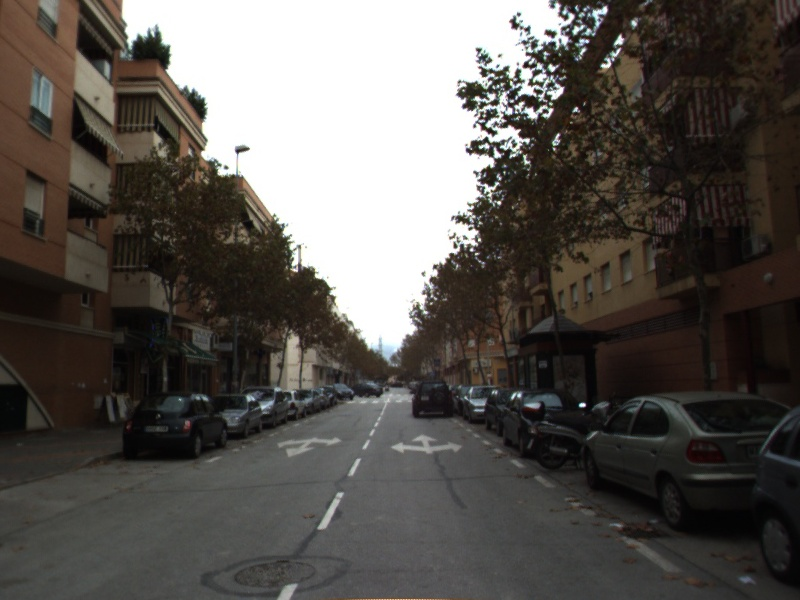STRAIGHT_LEFT_RIGHT: (389, 432, 465, 455)
